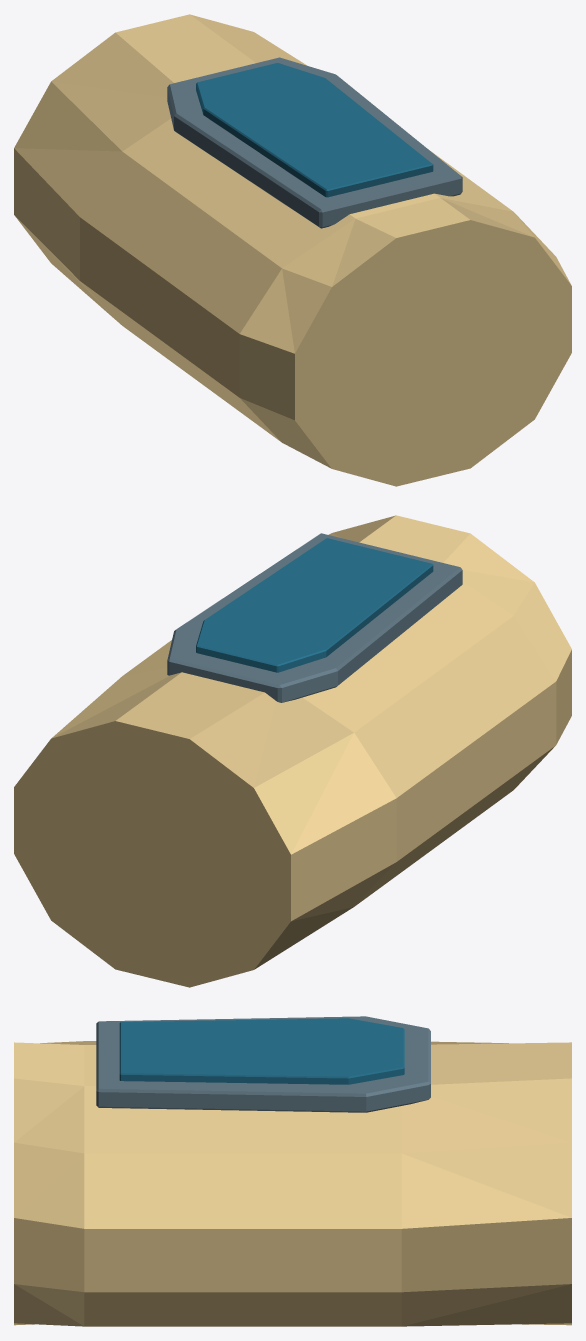
The model's file is EA_DeltaCenter.fbx.
3 renders of one model, top to bottom at view 1: azimuth 30°, elevation 25°; view 2: azimuth 150°, elevation 25°; view 3: azimuth 270°, elevation 25°, orthographic.
Parts seen in each view (by area): view 1: EA_DeltaCenter; view 2: EA_DeltaCenter; view 3: EA_DeltaCenter.
Part boxes in pixels (bbox=[...]): EA_DeltaCenter: bbox=[14, 14, 571, 486]; EA_DeltaCenter: bbox=[14, 515, 571, 987]; EA_DeltaCenter: bbox=[14, 1016, 571, 1326].
Bounding box in the file's own units: 0.6182 × 0.4878 × 0.95.
